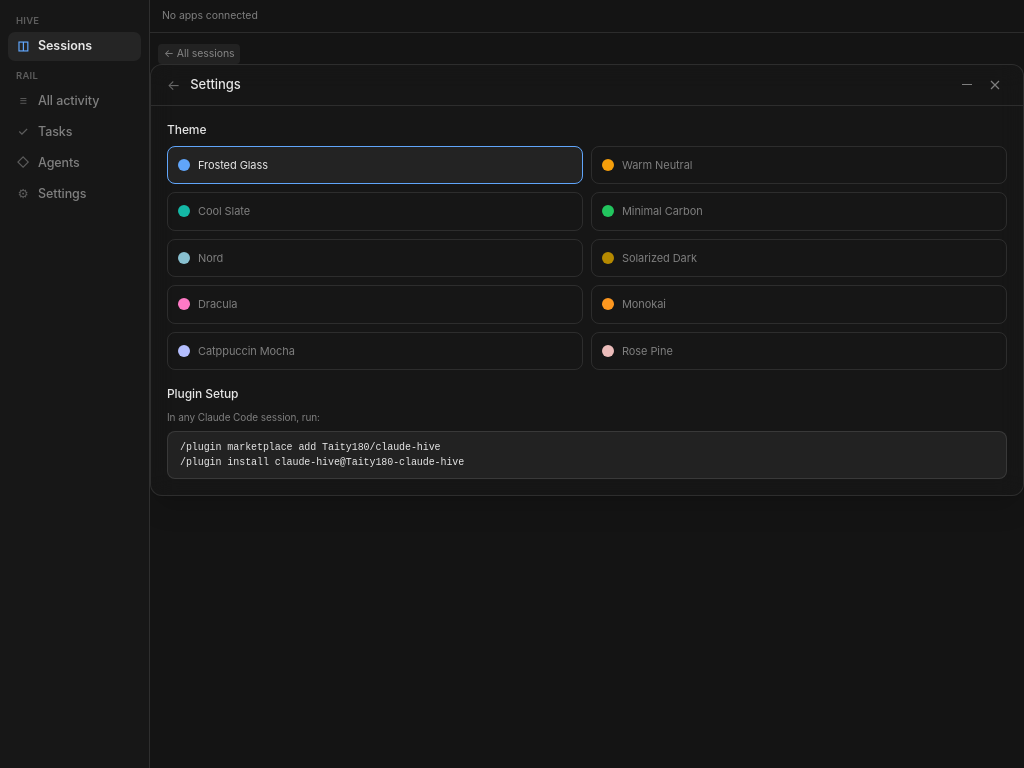
Test: RailPanes › follows Hive's own navigation instead of leaving a dead click
Click the button with test id "hive-pane-back" at (199, 54), box [158,44,240,64]
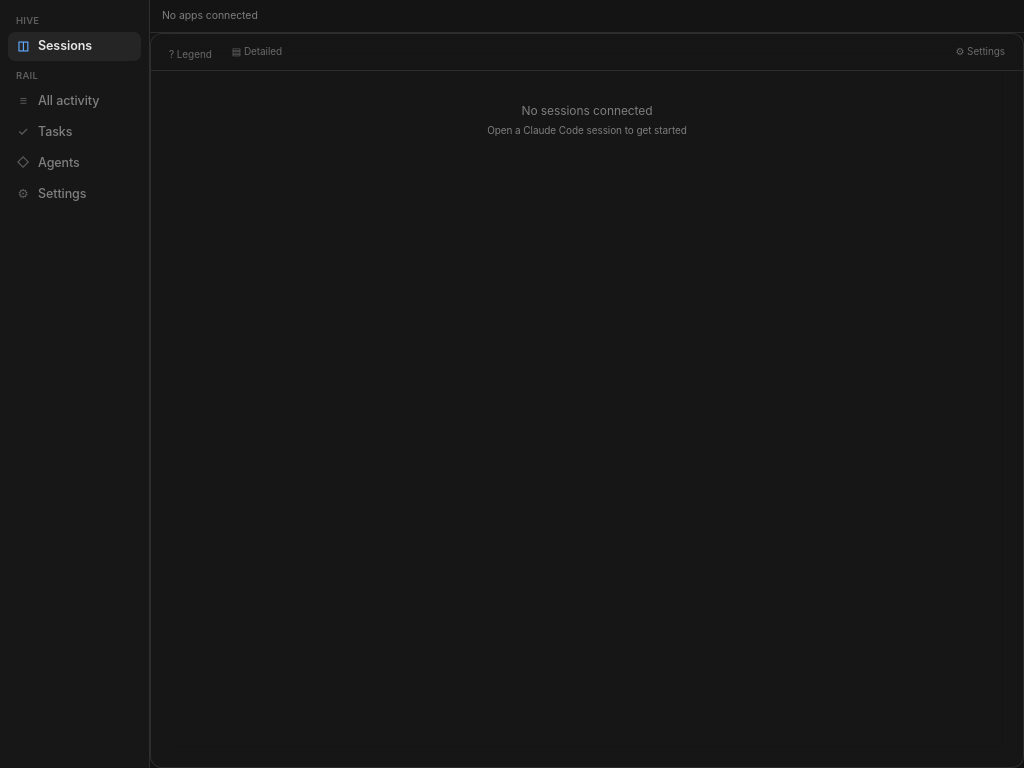
Expected: the button with test id "hive-pane-back" is gone
